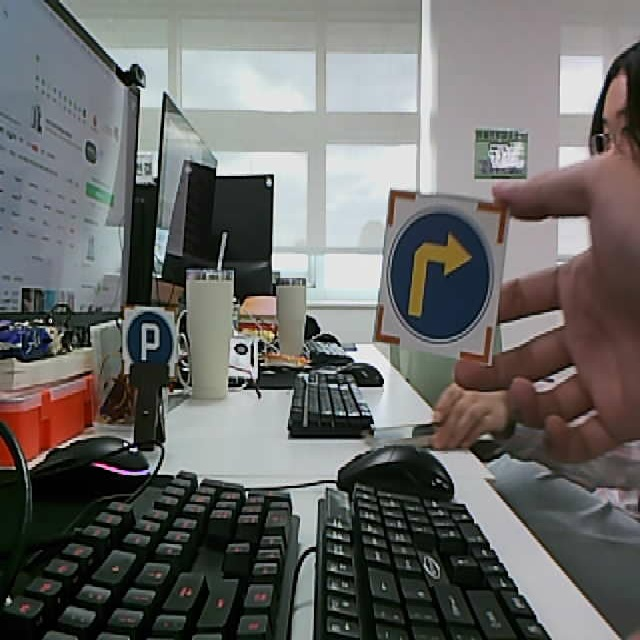right: (374, 186, 510, 367)
